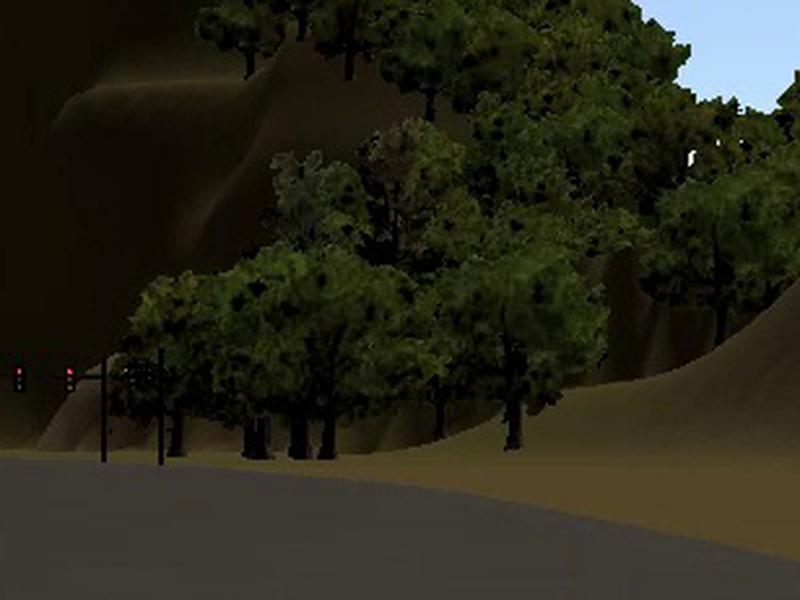Red: (12, 361, 27, 394), (63, 364, 77, 395)
